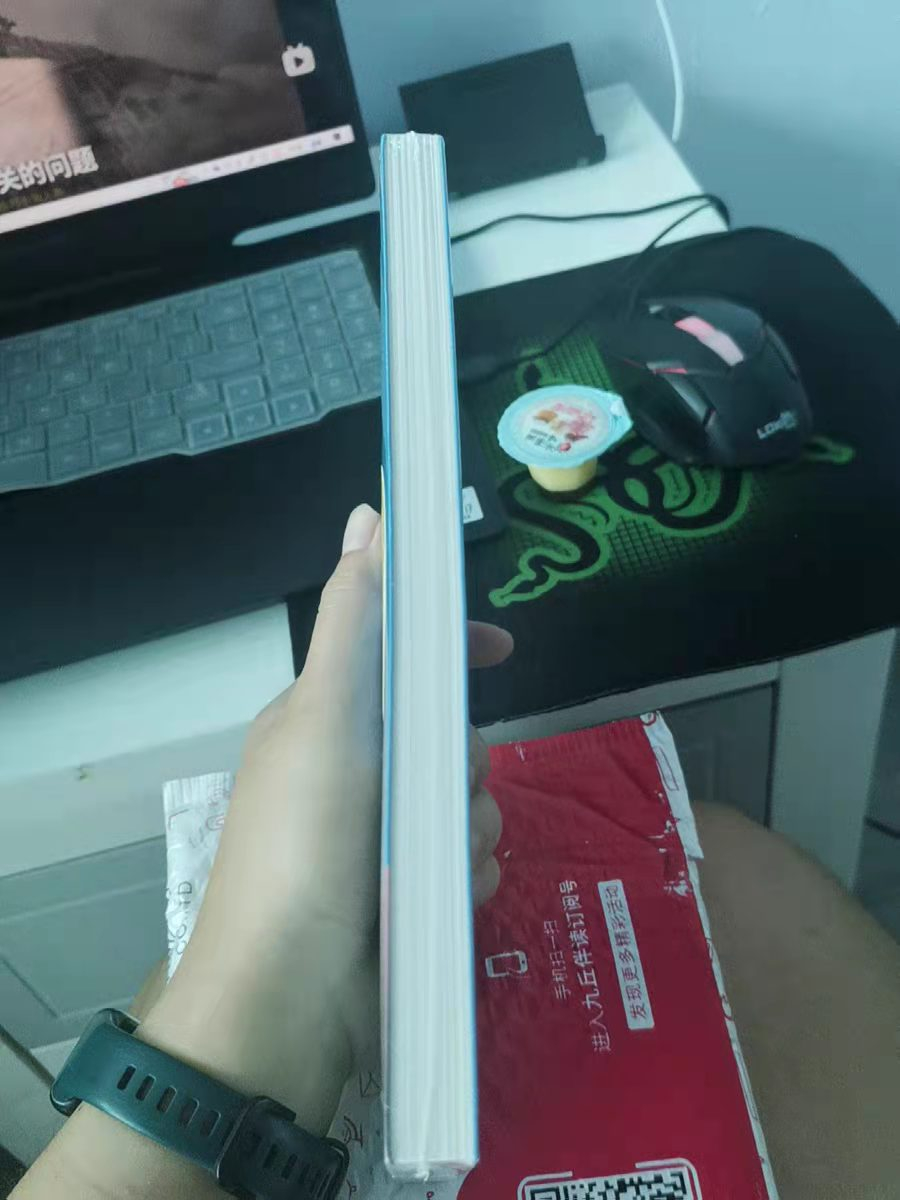book: (360, 126, 477, 1180)
